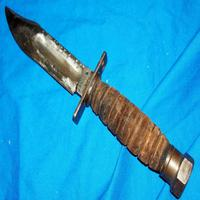knife: (3, 3, 195, 191)
